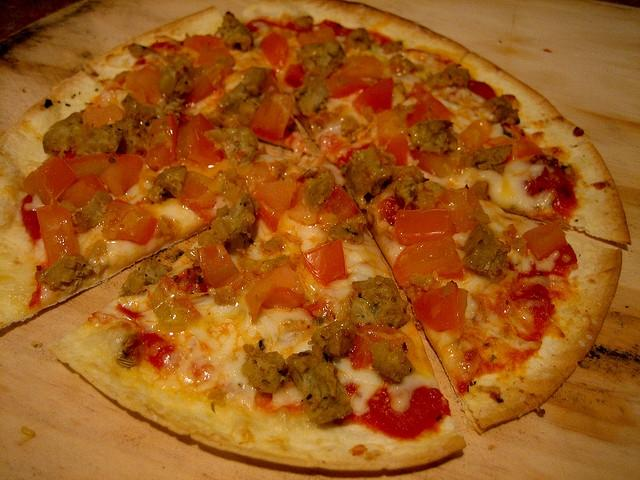tomato: (65, 153, 144, 197), (393, 237, 463, 286), (246, 264, 304, 318), (413, 280, 468, 333), (250, 180, 304, 231), (36, 206, 80, 266), (101, 199, 158, 245), (350, 324, 408, 369), (176, 113, 224, 167), (409, 136, 468, 178), (318, 184, 367, 233), (406, 82, 456, 128), (395, 208, 454, 246), (248, 94, 294, 140), (446, 188, 492, 233), (197, 243, 240, 290), (303, 239, 347, 284), (180, 171, 218, 223), (144, 114, 178, 172), (522, 220, 568, 260), (125, 64, 164, 107), (58, 174, 107, 208), (352, 76, 392, 112), (458, 118, 494, 156), (336, 54, 383, 83), (46, 155, 76, 200), (260, 32, 290, 70), (81, 103, 126, 128), (184, 73, 214, 106), (384, 134, 408, 166), (298, 26, 336, 46), (185, 35, 226, 52), (285, 63, 306, 88), (518, 140, 544, 160)
